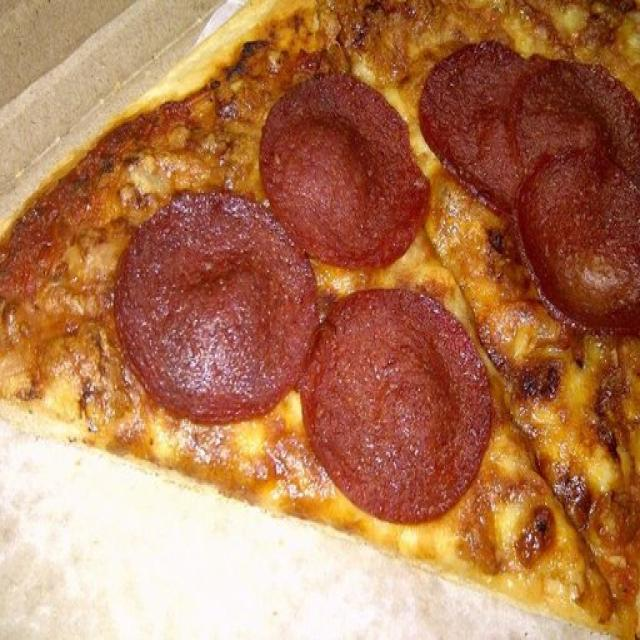Pepperoni: (425, 43, 640, 337), (110, 185, 314, 425), (304, 290, 490, 525), (264, 70, 434, 270)
Pizza: (0, 0, 640, 640)
